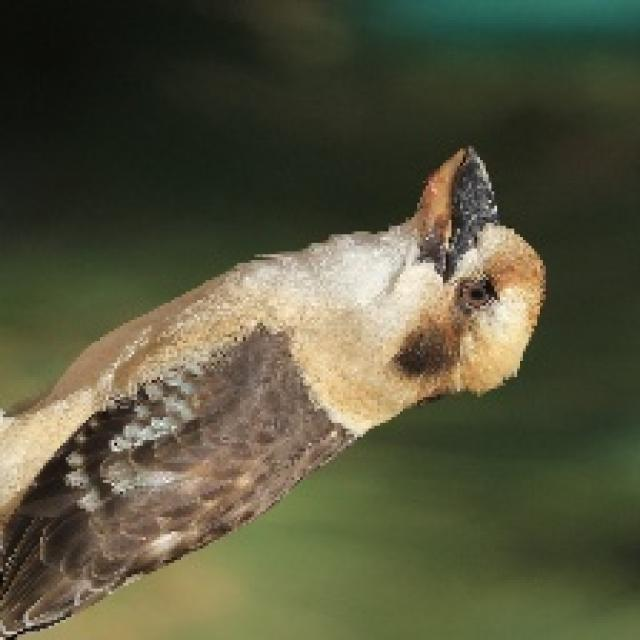animal: (7, 91, 576, 640)
